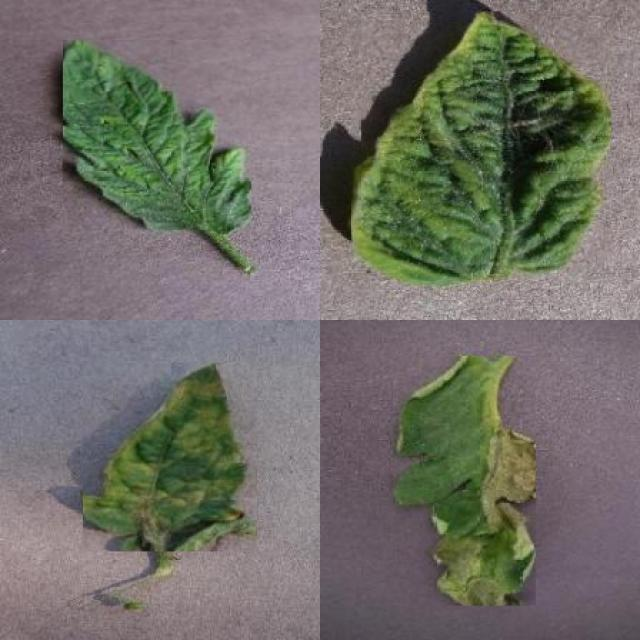Late Blight: (394, 356, 536, 606)
Leaf Mold: (83, 362, 258, 552)
Mosaic Virus: (63, 40, 251, 234)
Yellow Leaf Curl Virus: (352, 12, 612, 284)
